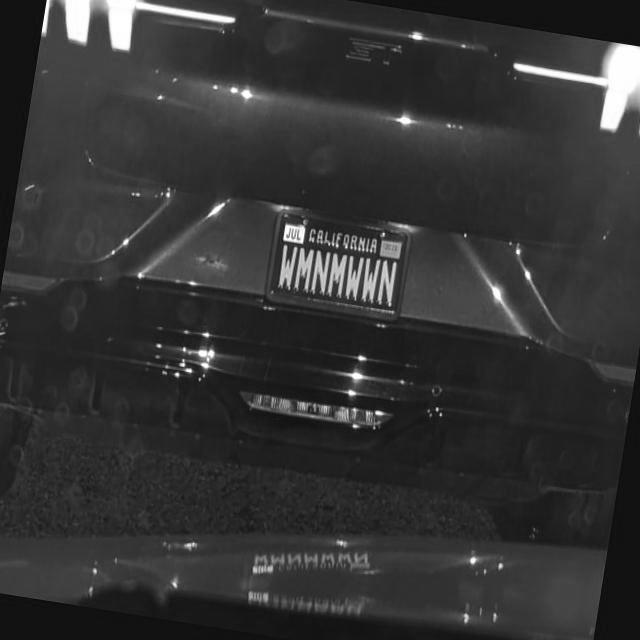LicensePlate: (263, 208, 414, 326)
